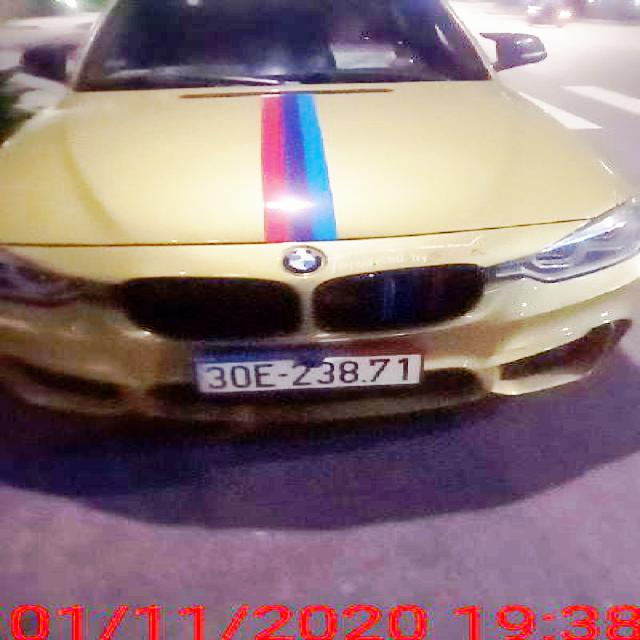license_plate: (196, 355, 422, 395)
